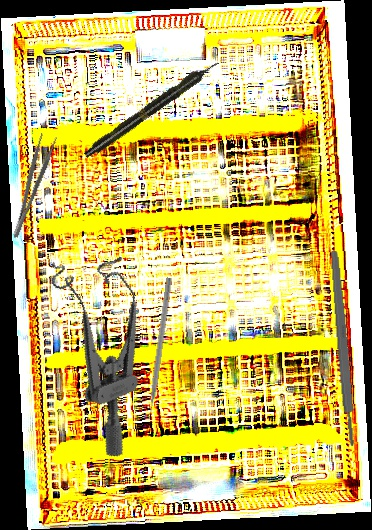Chopper: (138, 276, 173, 422)
Dressing Forceps: (2, 131, 59, 240)
Handpiece: (81, 56, 223, 162)
Scalpel Handle: (328, 250, 358, 447)
Speculum: (31, 236, 192, 461)
